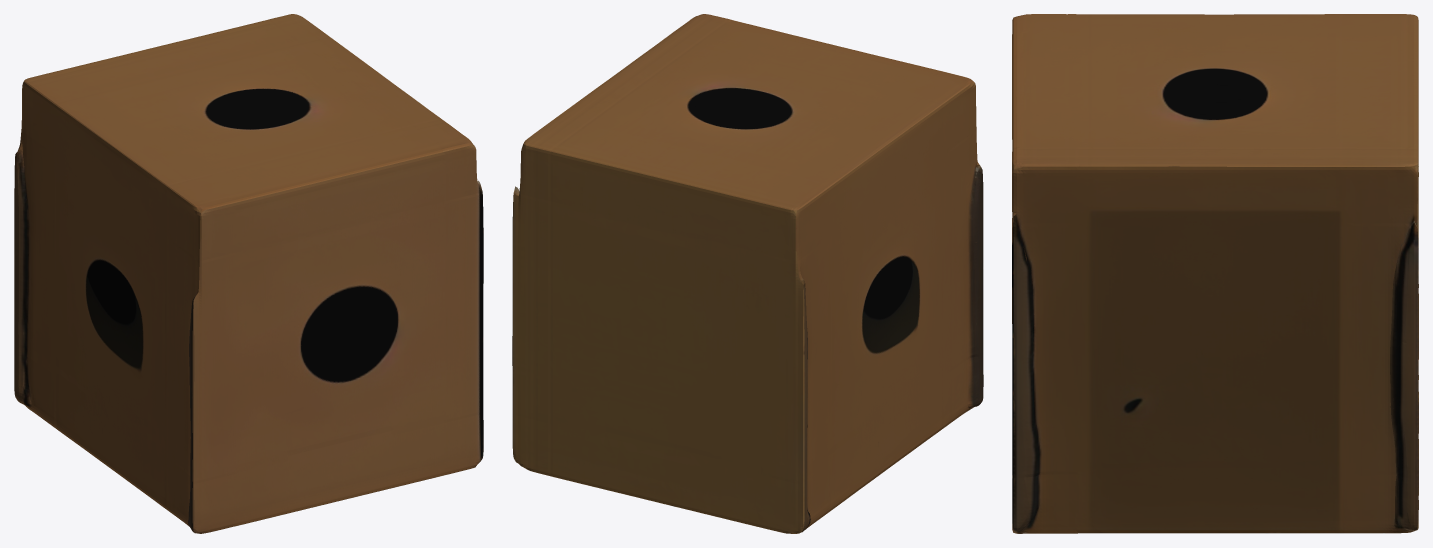
3 renders of one model, left to right at view 1: azimuth 30°, elevation 25°; view 2: azimuth 150°, elevation 25°; view 3: azimuth 270°, elevation 25°, orthographic. The views are drawn at different scales.
Visible parts, largest first — view 1: tmp6pig_s_t.ply; view 2: tmp6pig_s_t.ply; view 3: tmp6pig_s_t.ply.
Boxes of the visible parts, x1,y1,x2,y2 form: tmp6pig_s_t.ply: (14, 14, 483, 533); tmp6pig_s_t.ply: (512, 14, 983, 533); tmp6pig_s_t.ply: (1012, 14, 1418, 533).
Size of the model in its own units: 1.83 by 1.96 by 1.96.
Materials: 1 (1 with a texture image).
